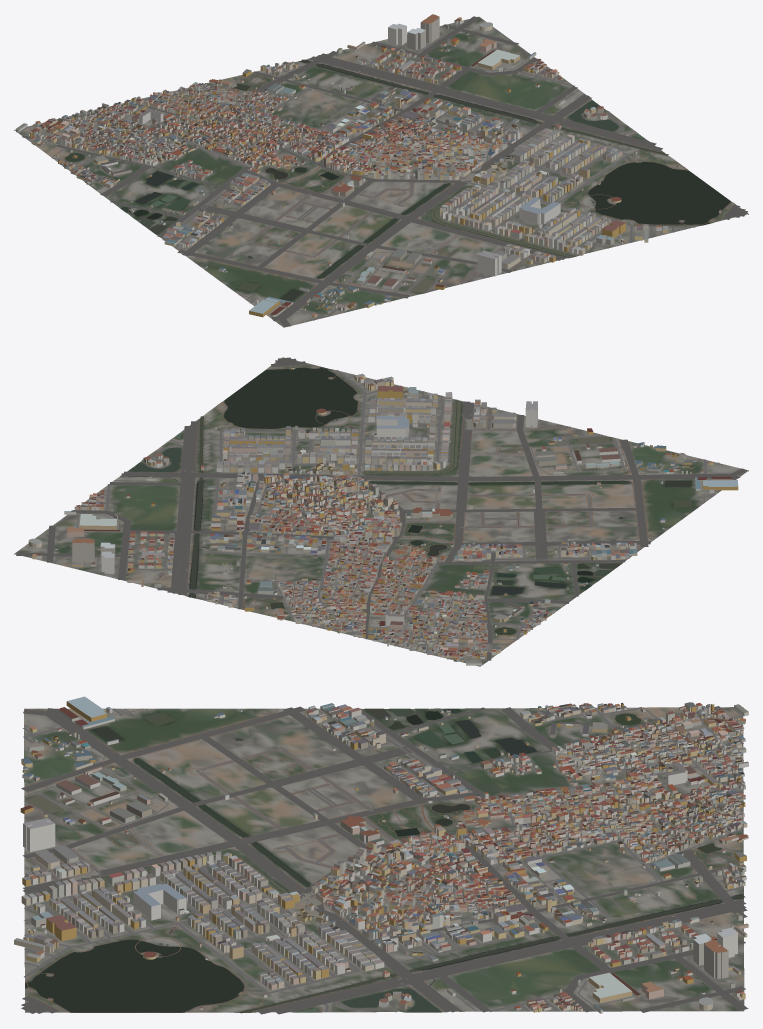
3 renders of one model, top to bottom at view 1: azimuth 30°, elevation 25°; view 2: azimuth 150°, elevation 25°; view 3: azimuth 270°, elevation 25°, orthographic. The views are drawn at different scales.
Parts seen in each view (by area): view 1: ground, buildings, roads, water; view 2: ground, buildings, roads, water; view 3: ground, buildings, roads, water.
Boxes of the visible parts, box(x1,y1,x2,y2) form: ground: box(14, 16, 748, 327); buildings: box(16, 14, 721, 317); roads: box(18, 16, 747, 327); water: box(65, 59, 730, 301); ground: box(14, 357, 748, 666); buildings: box(28, 367, 738, 665); roads: box(16, 357, 748, 663); water: box(120, 366, 692, 634); ground: box(24, 707, 744, 1012); buildings: box(14, 696, 748, 1013); roads: box(21, 706, 748, 1014); water: box(25, 708, 745, 1013).
Bounding box in the file's own units: 1446 × 61.77 × 1432.
